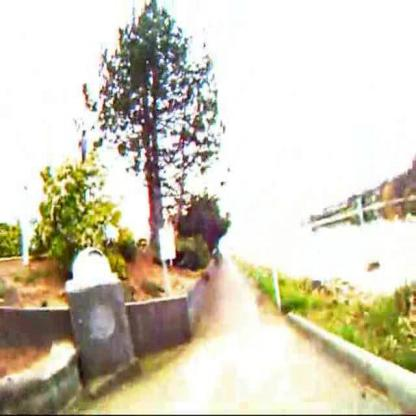other: (63, 249, 127, 306)
